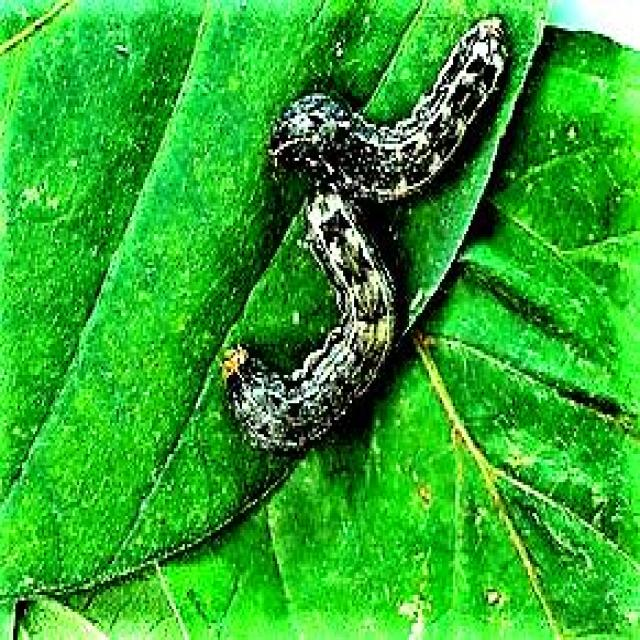armyworm: (218, 11, 510, 457)
